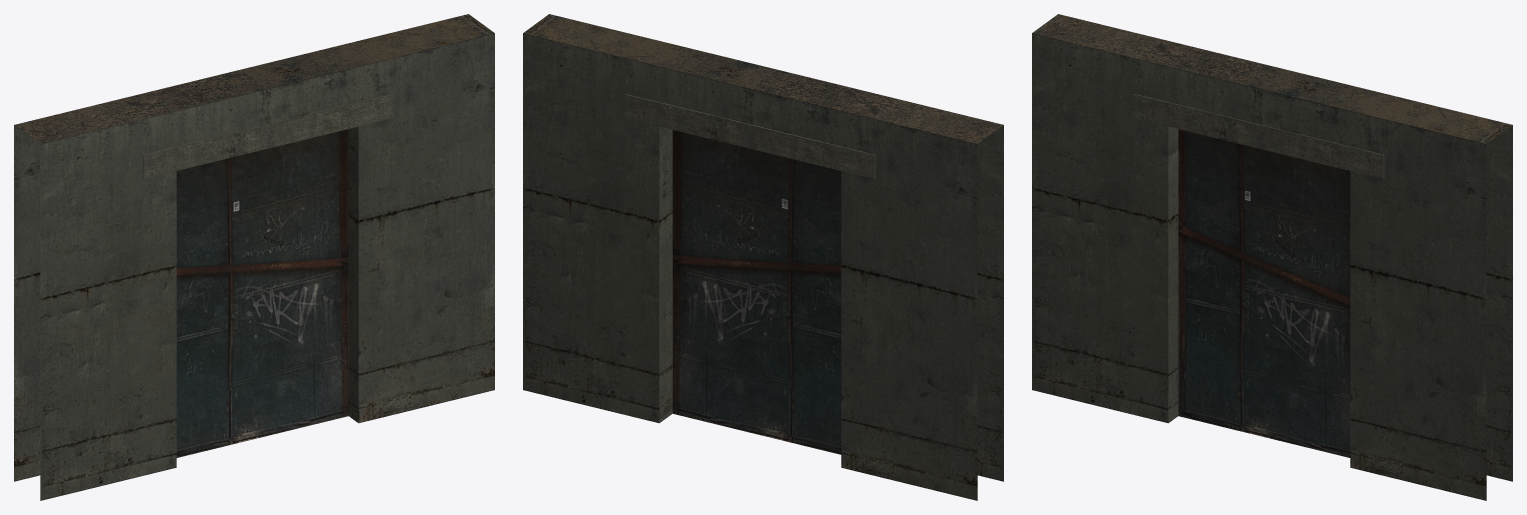
File: doorway_rg_1_wide.obj
3 renders of one model, left to right at view 1: azimuth 30°, elevation 25°; view 2: azimuth 150°, elevation 25°; view 3: azimuth 330°, elevation 25°, orthographic.
Parts seen in each view (by area): view 1: doorway_rg_1_wide; view 2: doorway_rg_1_wide; view 3: doorway_rg_1_wide.
Boxes of the visible parts, x1=… form: doorway_rg_1_wide: x1=14, y1=14, x2=494, y2=500; doorway_rg_1_wide: x1=523, y1=14, x2=1003, y2=500; doorway_rg_1_wide: x1=1032, y1=14, x2=1512, y2=500.
Bounding box in the file's own units: 4 × 3 × 0.42.
